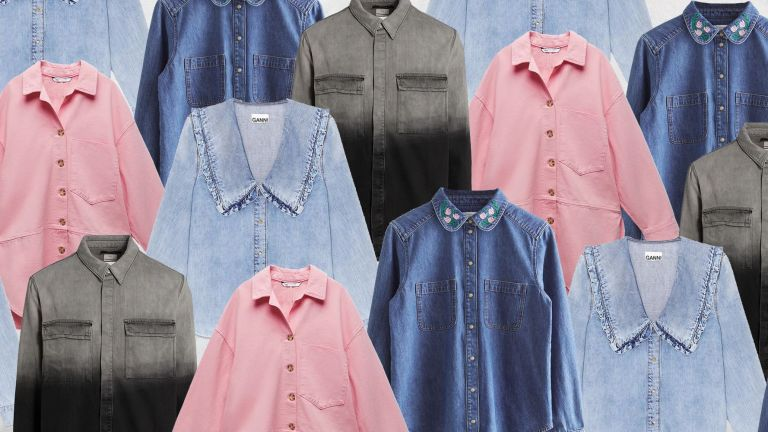long-sleeved shirt: (2, 1, 764, 430)
